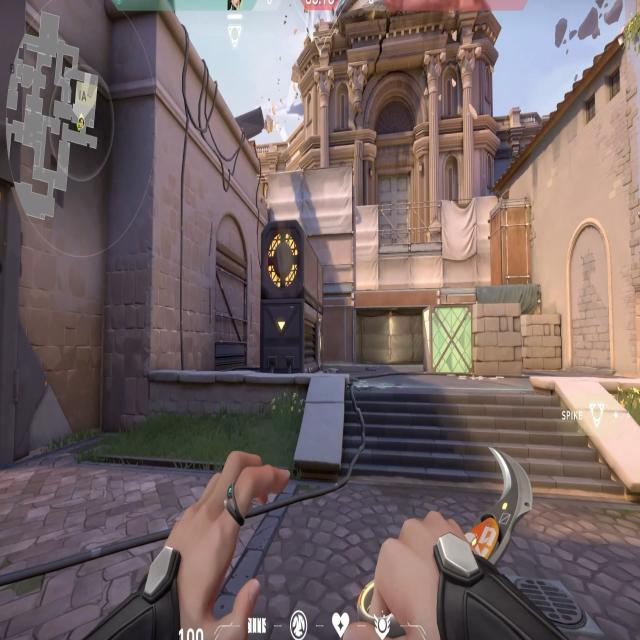A_Heaven_Box: (487, 195, 537, 287)
A_Heaven_Wall: (262, 154, 362, 299)
A_Hell: (347, 284, 452, 368)
A_Site_Box: (422, 297, 528, 384)
